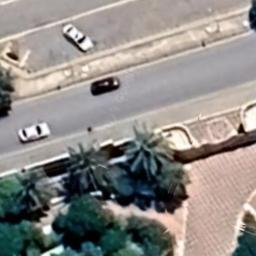sedan: (62, 22, 94, 53), (90, 74, 122, 96), (17, 122, 52, 142)
